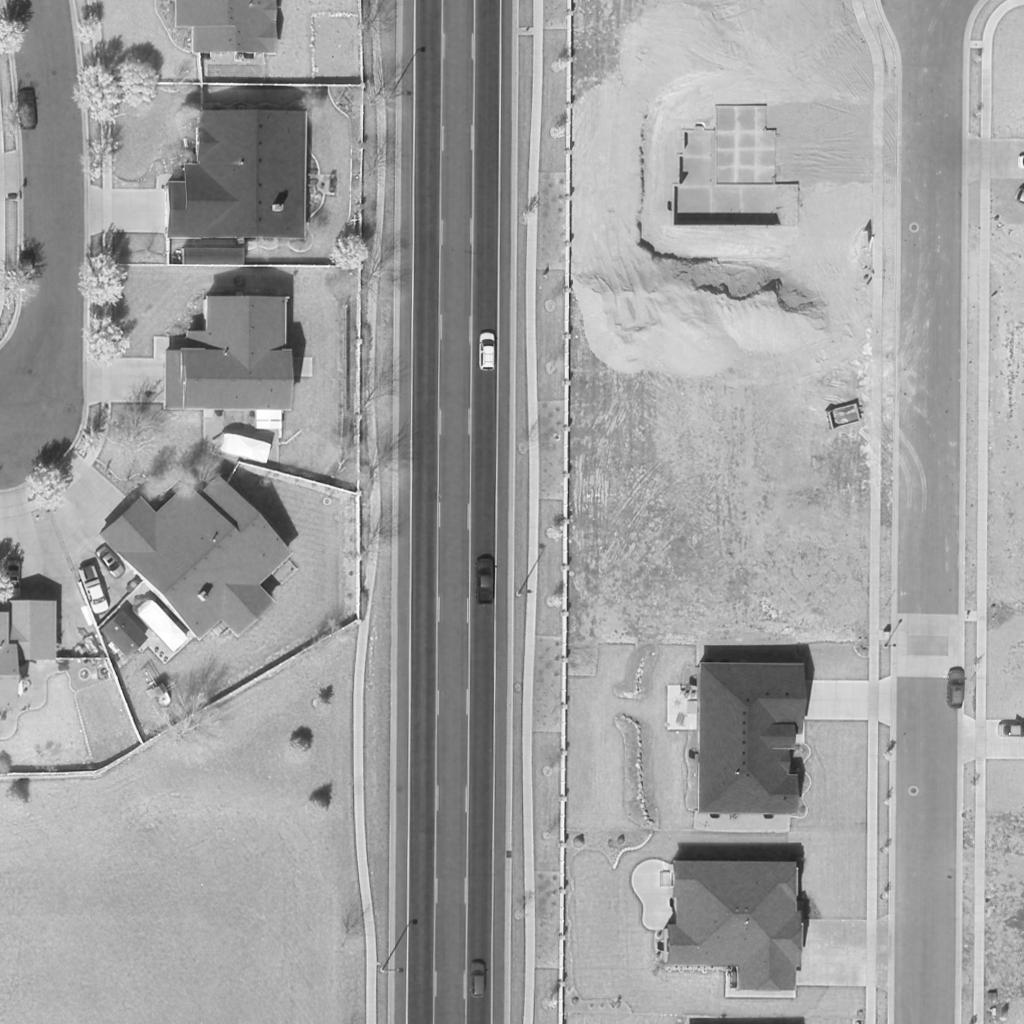vehicle: (130, 596, 186, 650), (216, 429, 272, 465), (77, 564, 111, 616), (91, 543, 127, 577), (475, 558, 495, 604), (16, 90, 38, 130), (478, 330, 498, 370), (947, 670, 965, 708), (470, 960, 486, 998), (997, 724, 1024, 736)
